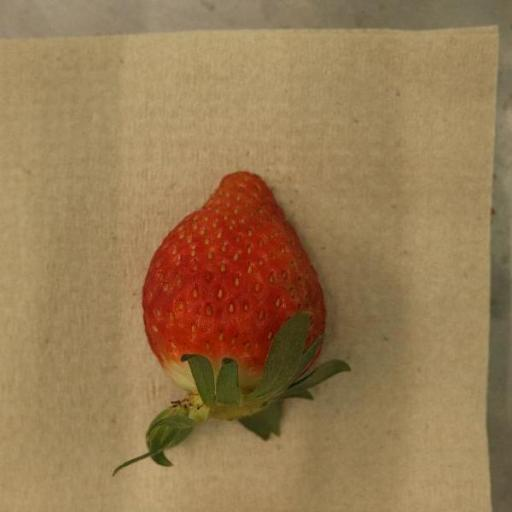Strawberry: (114, 171, 353, 475)
